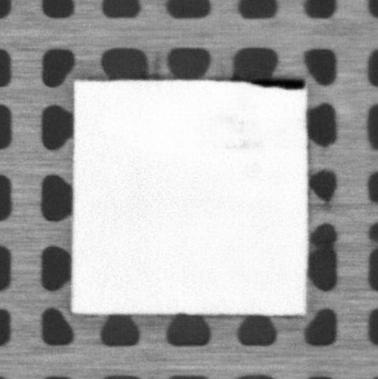DIE_BROKEN: (248, 76, 307, 90)
